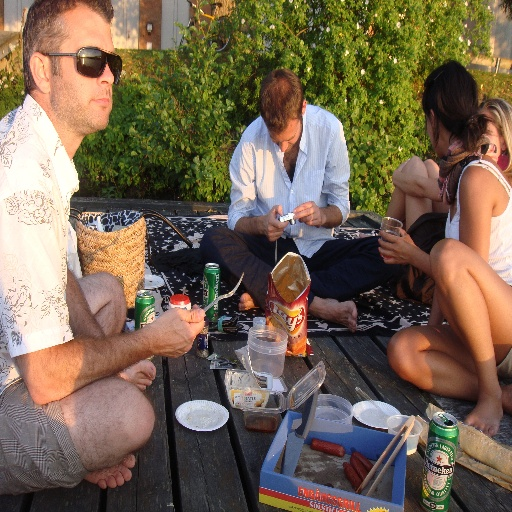hand: (144, 307, 205, 364), (377, 226, 416, 267), (263, 204, 291, 244), (292, 197, 321, 228), (392, 160, 410, 187)
